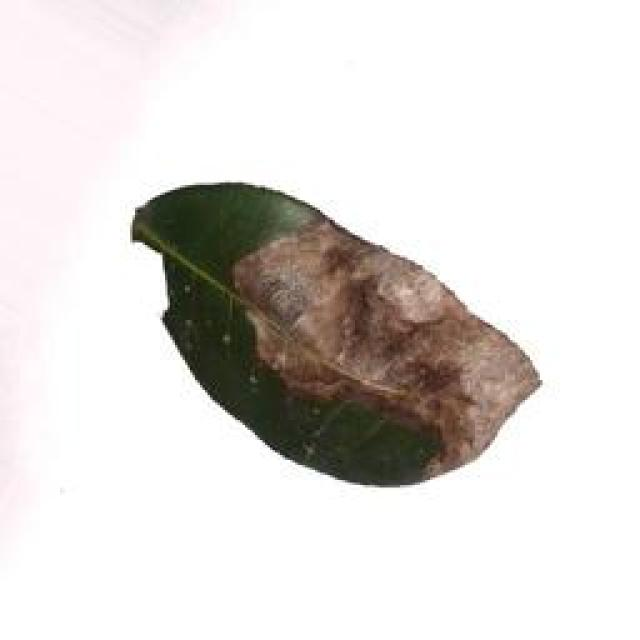Gray Blight: (130, 177, 544, 485)
